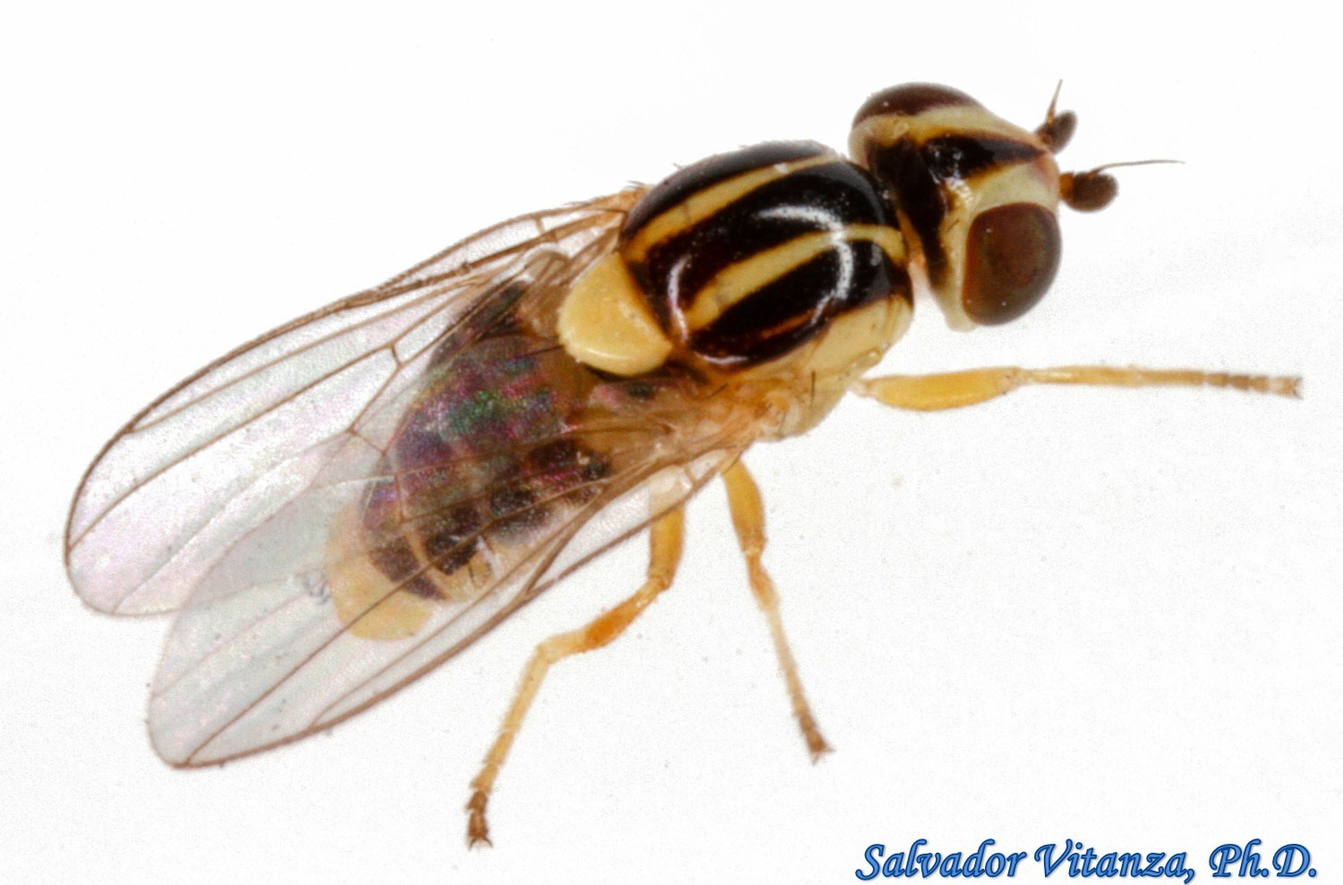Chloropidae: (66, 64, 1304, 847)
